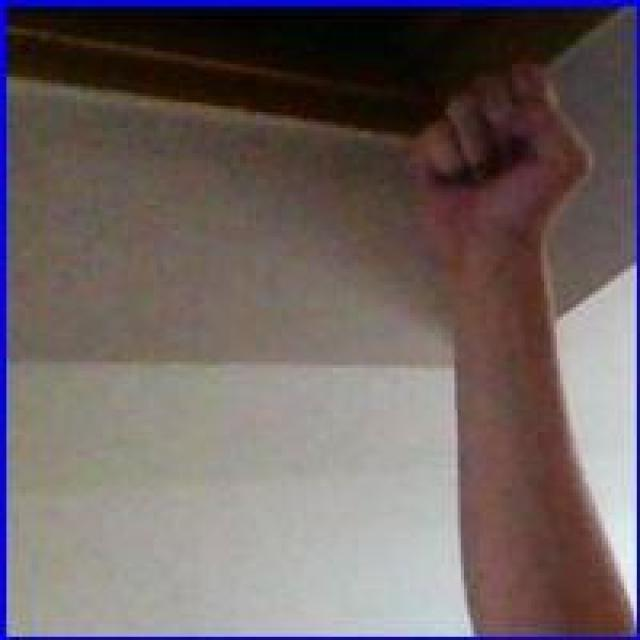S: (408, 53, 597, 254)
